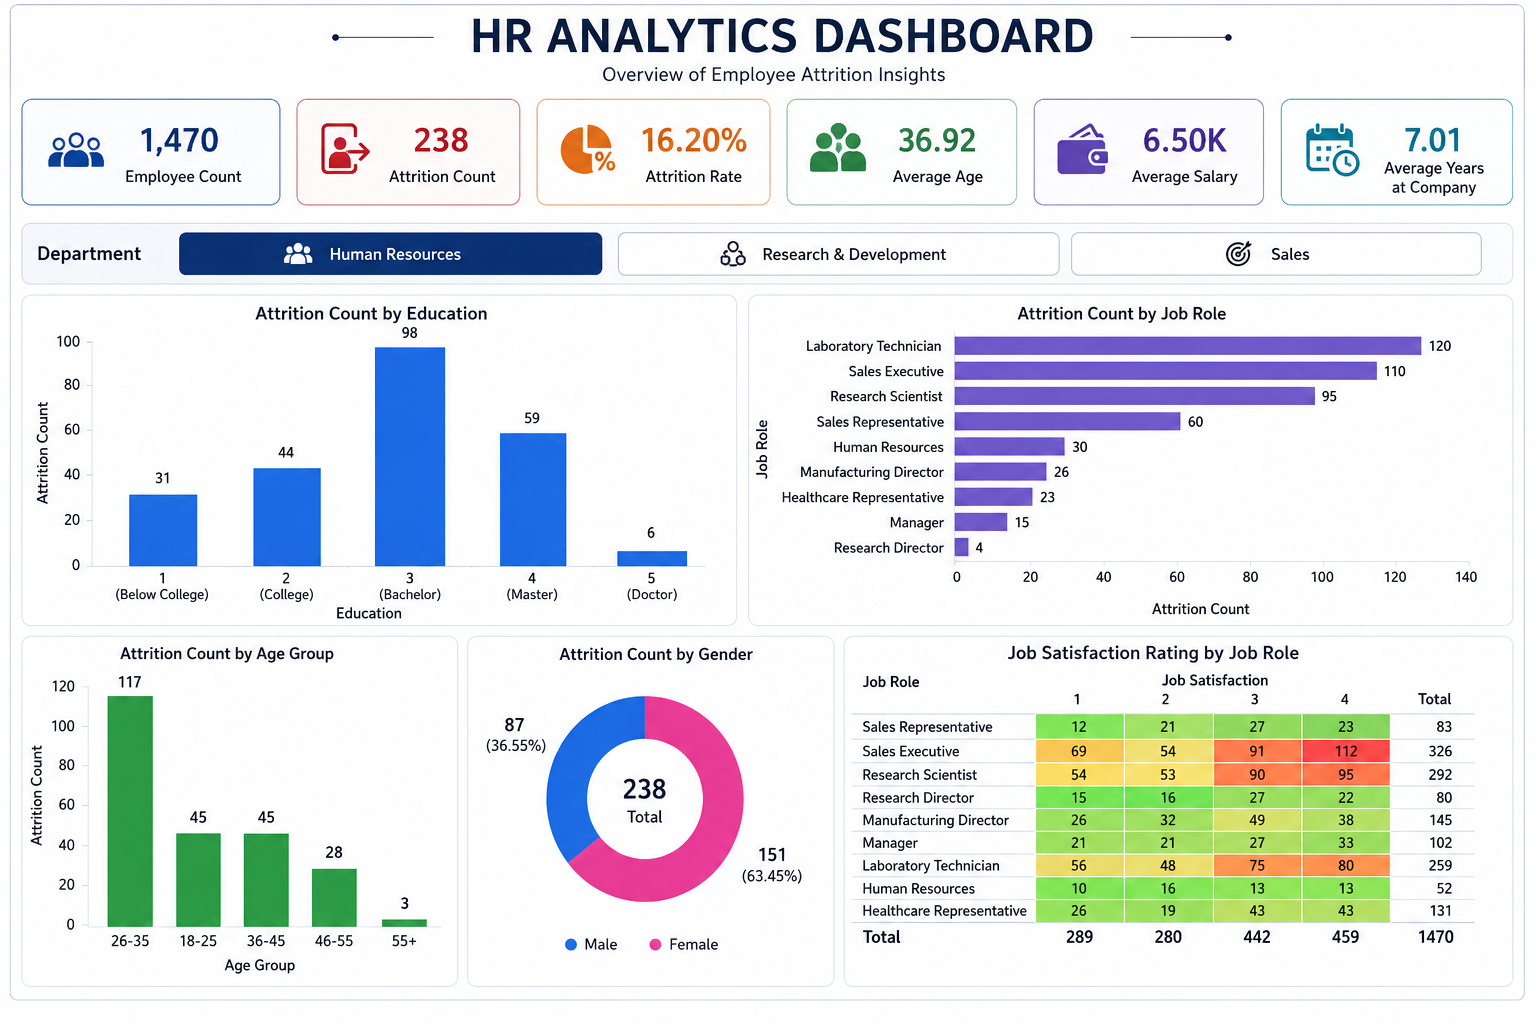

The page's visual inventory and layout, read from the dashboard file:
{"tool":"powerbi","page":{"name":"Page 1","canvas":[1280,720],"ordinal":0},"visuals":[{"type":"cardVisual","fields":{"Data":["HR_Analytics (2).Employee Count"]},"box":[0,101.1,192.8,107.4],"z":0},{"type":"cardVisual","fields":{"Data":["HR_Analytics (2).Attrition Count"]},"box":[0,193.9,179.3,131.3],"z":1000},{"type":"cardVisual","fields":{"Data":["HR_Analytics (2).Attrition Rate"]},"box":[0,317.9,179.3,139.7],"z":2000},{"type":"cardVisual","fields":{"Data":["HR_Analytics (2).Average Age"]},"box":[0,444,179.3,153.2],"z":3000},{"type":"cardVisual","fields":{"Data":["HR_Analytics (2).Average Salary"]},"box":[0,584.8,182.4,135.5],"z":4000},{"type":"cardVisual","fields":{"Data":["HR_Analytics (2).Average Years"]},"box":[0,0,192.8,110.5],"z":5000},{"type":"slicer","fields":{"Values":["HR_Analytics (2).Department"]},"box":[1105.9,0,174.1,317.9],"z":6000},{"type":"donutChart","fields":{"Category":["HR_Analytics (2).Gender"],"Y":["HR_Analytics (2).Attrition Count"]},"box":[891.2,416.9,388.8,303.3],"z":7000},{"type":"clusteredColumnChart","fields":{"Y":["HR_Analytics (2).Attrition Count"],"Category":["HR_Analytics (2).Education"]},"box":[192.6,40.7,482.7,417.3],"z":8000},{"type":"clusteredBarChart","fields":{"Category":["HR_Analytics (2).JobRole"],"Y":["HR_Analytics (2).Attrition Count"]},"box":[675.4,0,430.5,387.8],"z":9000},{"type":"pivotTable","fields":{"Rows":["HR_Analytics (2).JobRole"],"Columns":["HR_Analytics (2).JobSatisfaction"],"Values":["HR_Analytics (2).Employee Count"]},"box":[492.6,485.2,374.1,234.6],"z":10000},{"type":"clusteredColumnChart","fields":{"Category":["HR_Analytics (2).AgeGroup"],"Y":["HR_Analytics (2).Attrition Count"]},"box":[192.6,474.1,300,245.7],"z":11000},{"type":"textbox","box":[128.4,0,546.9,40.7],"z":12000}]}

Visuals, with their boxes on the page's 1280x720 design canvas (x1, y1, x2, y2). These are canvas units, not pixel positions in the 1536x1024 screenshot, which may show the page scaled, cropped or inside an application window:
cardVisual - HR_Analytics (2).Employee Count: 0/101/193/208
cardVisual - HR_Analytics (2).Attrition Count: 0/194/179/325
cardVisual - HR_Analytics (2).Attrition Rate: 0/318/179/458
cardVisual - HR_Analytics (2).Average Age: 0/444/179/597
cardVisual - HR_Analytics (2).Average Salary: 0/585/182/720
cardVisual - HR_Analytics (2).Average Years: 0/0/193/110
slicer - HR_Analytics (2).Department: 1106/0/1280/318
donutChart - HR_Analytics (2).Gender x HR_Analytics (2).Attrition Count: 891/417/1280/720
clusteredColumnChart - HR_Analytics (2).Attrition Count x HR_Analytics (2).Education: 193/41/675/458
clusteredBarChart - HR_Analytics (2).JobRole x HR_Analytics (2).Attrition Count: 675/0/1106/388
pivotTable - HR_Analytics (2).JobRole x HR_Analytics (2).JobSatisfaction: 493/485/867/720
clusteredColumnChart - HR_Analytics (2).AgeGroup x HR_Analytics (2).Attrition Count: 193/474/493/720
textbox: 128/0/675/41
